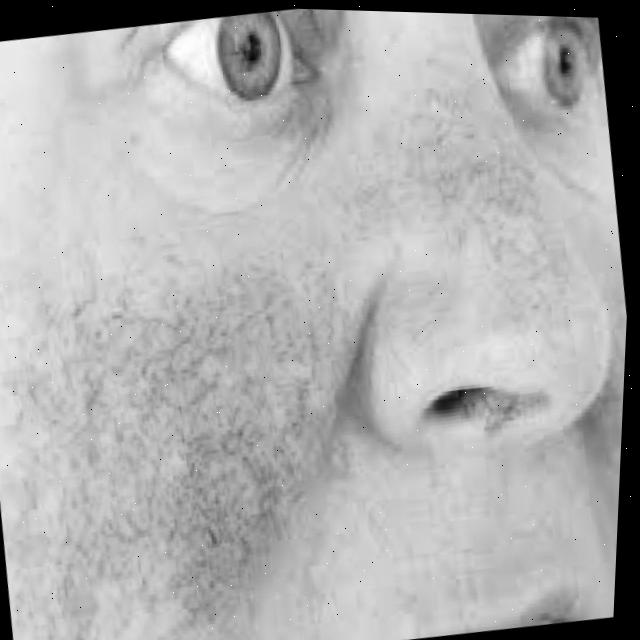Rosacea: (0, 219, 415, 640), (376, 43, 599, 360), (558, 287, 628, 580)
